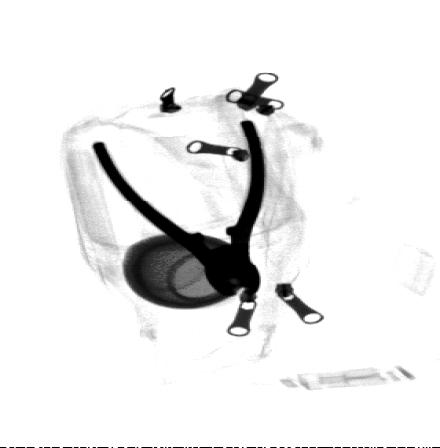Pliers: (89, 117, 266, 297)
